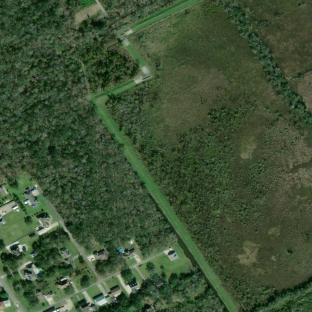Floresta: (0, 0, 171, 251), (220, 0, 312, 130), (103, 269, 224, 312), (252, 277, 312, 312), (32, 228, 72, 278)
